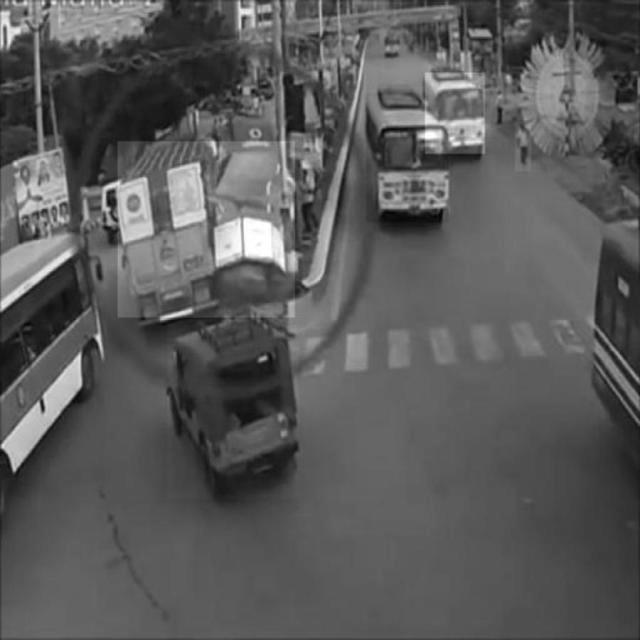accident: (118, 142, 295, 318)
person: (516, 122, 532, 172)
vehicle: (168, 325, 299, 499), (366, 92, 448, 222), (426, 73, 486, 154)
